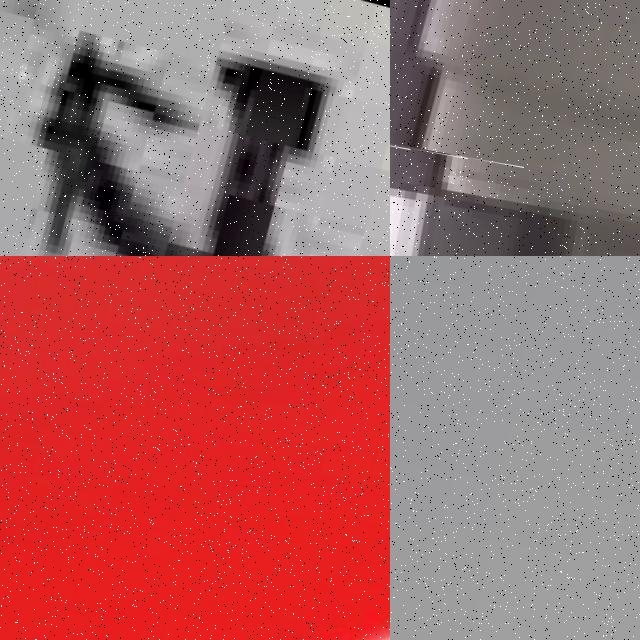drone: (0, 256, 390, 640), (0, 0, 390, 256), (390, 0, 640, 232)
